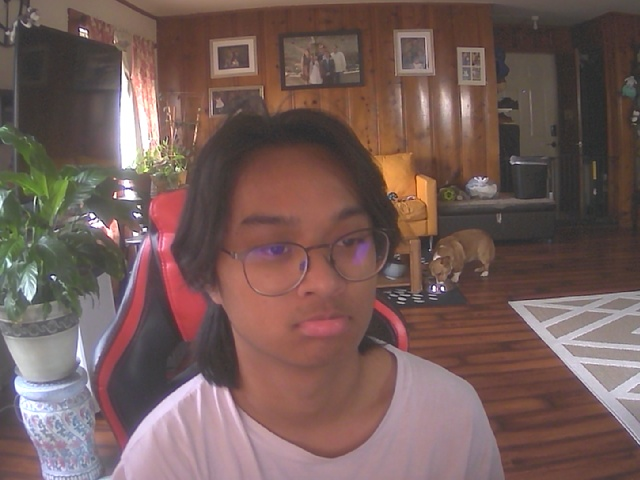sad: (198, 124, 397, 373)
